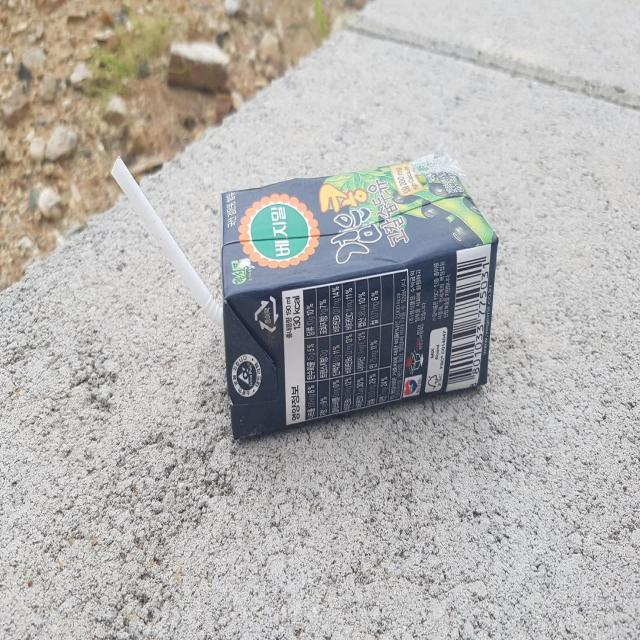paperpack: (221, 148, 498, 438)
